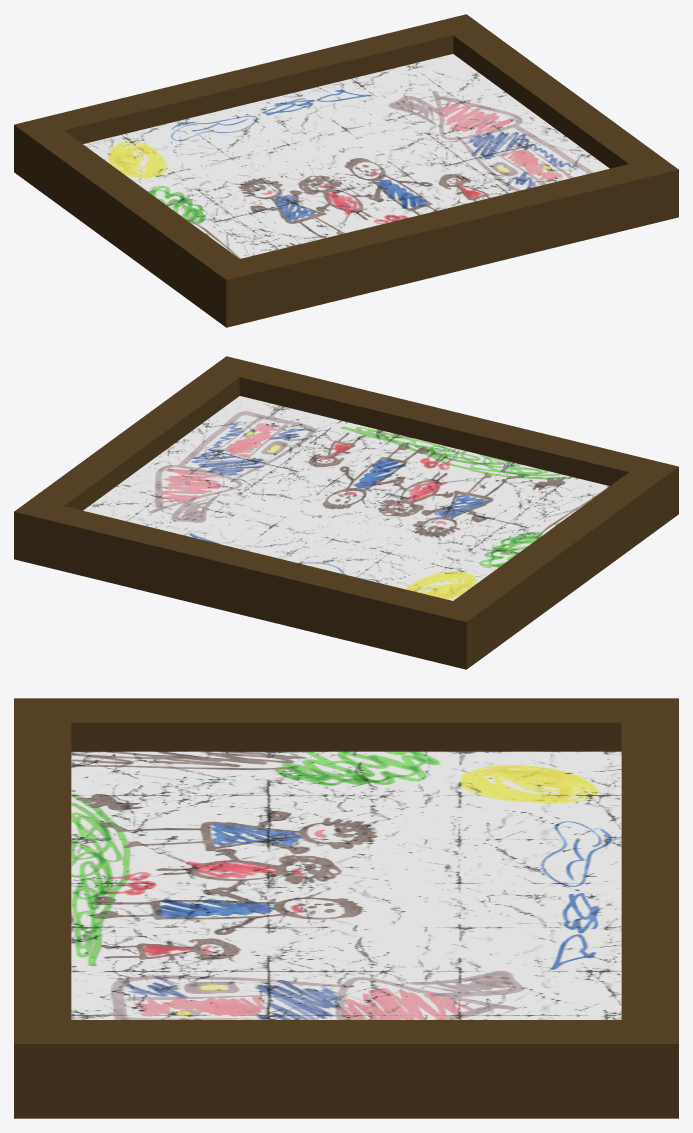
File: Photo Family.fbx
The picture shows the model from 3 angles, top to bottom: view 1: azimuth 30°, elevation 25°; view 2: azimuth 150°, elevation 25°; view 3: azimuth 270°, elevation 25°; orthographic projection. The views are drawn at different scales.
Parts seen in each view (by area): view 1: pCube1; view 2: pCube1; view 3: pCube1.
Boxes of the visible parts, <box> form: pCube1: <box>14,14,678,327</box>; pCube1: <box>14,356,678,669</box>; pCube1: <box>14,698,678,1118</box>.
Bounding box in the file's own units: 4.29 × 0.4318 × 3.49.
2 materials, 1 textured.
